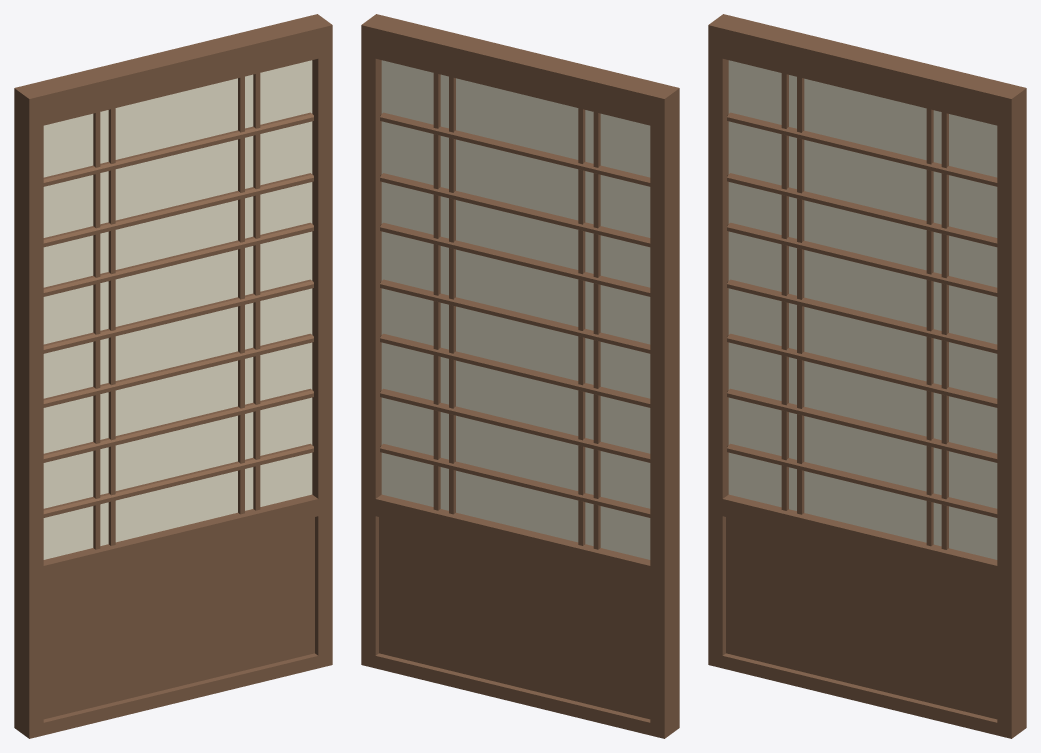
The model's file is Door3.fbx.
3 views of the same model, side by side, from view 1: azimuth 30°, elevation 25°; view 2: azimuth 150°, elevation 25°; view 3: azimuth 330°, elevation 25° (orthographic).
Parts seen in each view (by area): view 1: frame, sticks, paper3; view 2: frame, sticks, paper3; view 3: frame, sticks, paper3.
Boxes of the visible parts, left/top/right/bottom form: frame: left=14, top=14, right=332, bottom=738; sticks: left=43, top=60, right=312, bottom=559; paper3: left=43, top=73, right=313, bottom=549; frame: left=361, top=14, right=679, bottom=738; sticks: left=381, top=60, right=650, bottom=559; paper3: left=380, top=73, right=650, bottom=549; frame: left=708, top=14, right=1026, bottom=738; sticks: left=728, top=60, right=997, bottom=559; paper3: left=727, top=73, right=997, bottom=549.
Bounding box in the file's own units: 190 × 382 × 16.39.
